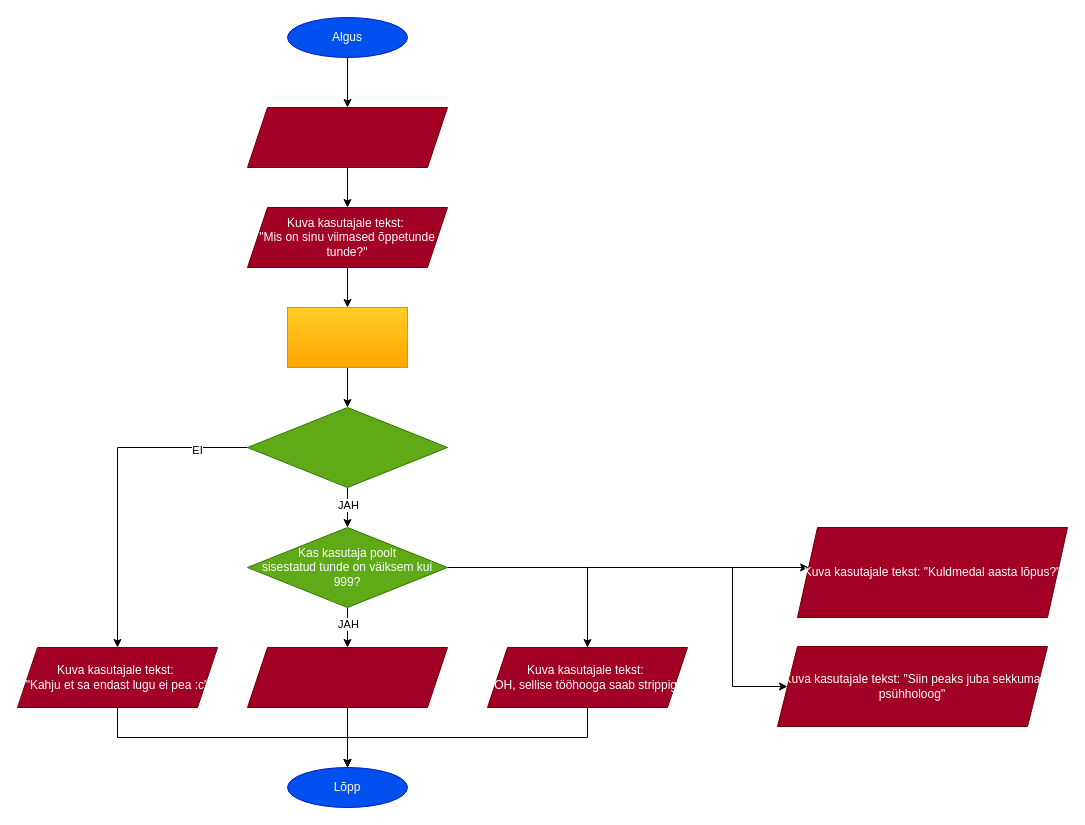
Some shapes in this 1085 by 825 pixel diagram are drawn without their labels. The shapes that lost their labels are listed below. From the top down, each one's box as (x1, y1, x2, y2) in pixels, then its label:
(246, 106, 448, 168): Tekita muutuja "tunde" mille algväärtuseks on täisarv 0
(286, 306, 408, 368): Oota kuni kasutaja sisestab muutujasse "tunde" sisestuse.
(246, 406, 448, 488): Kas kasutaja poolt sisestatud tunde on suurem kui 0?
(246, 646, 448, 708): Kuva kasutajale tekst: "Algus on hea, aga kõike nii tehtud ei saa"
